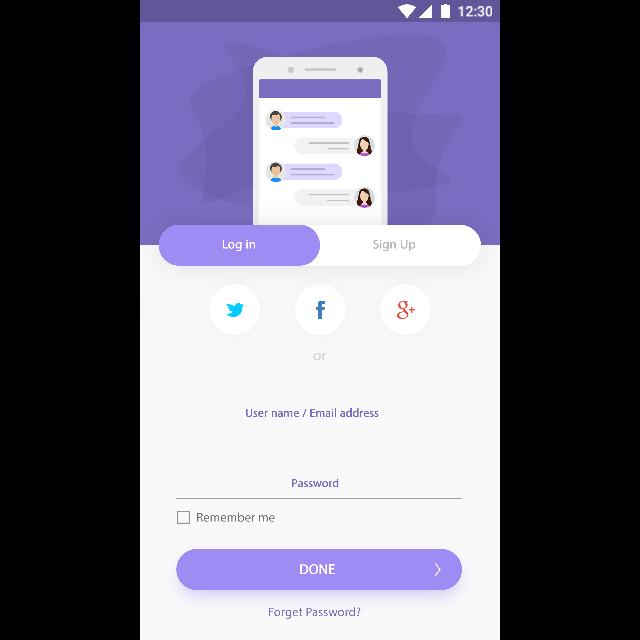checkbox: (177, 511, 190, 524)
icon: (381, 284, 432, 336), (210, 284, 260, 336), (294, 285, 346, 335)
image: (252, 57, 388, 225)
input: (176, 408, 462, 430), (176, 479, 462, 499)
text: (246, 408, 378, 418), (269, 607, 361, 619), (197, 512, 275, 522), (292, 479, 338, 487), (314, 353, 326, 361)
textbutton: (176, 550, 462, 590), (158, 224, 320, 266), (321, 226, 481, 266)
uppertaskbar: (140, 1, 500, 23)
